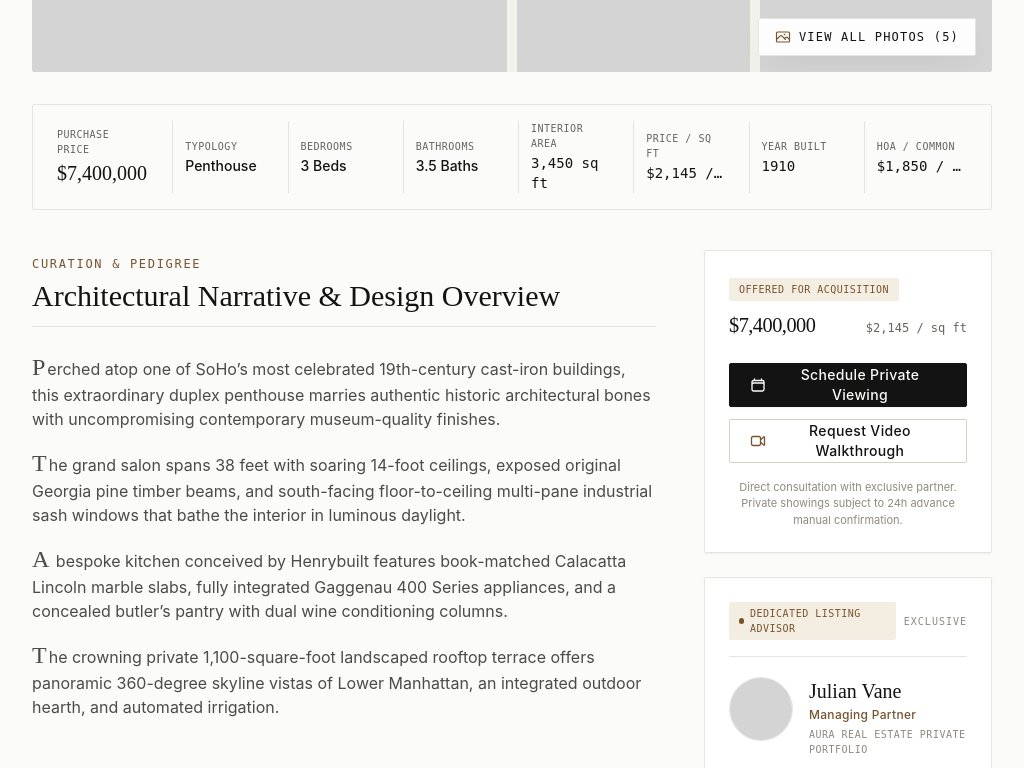
Test: Property Detail Page Integration Suite › opens viewing modal when Schedule Private Viewing button is clicked
The image size is (1024, 768).
(page scrolled)
Step 1. Click the button "Schedule Private Viewing" → (848,385), box [729,363,967,407]
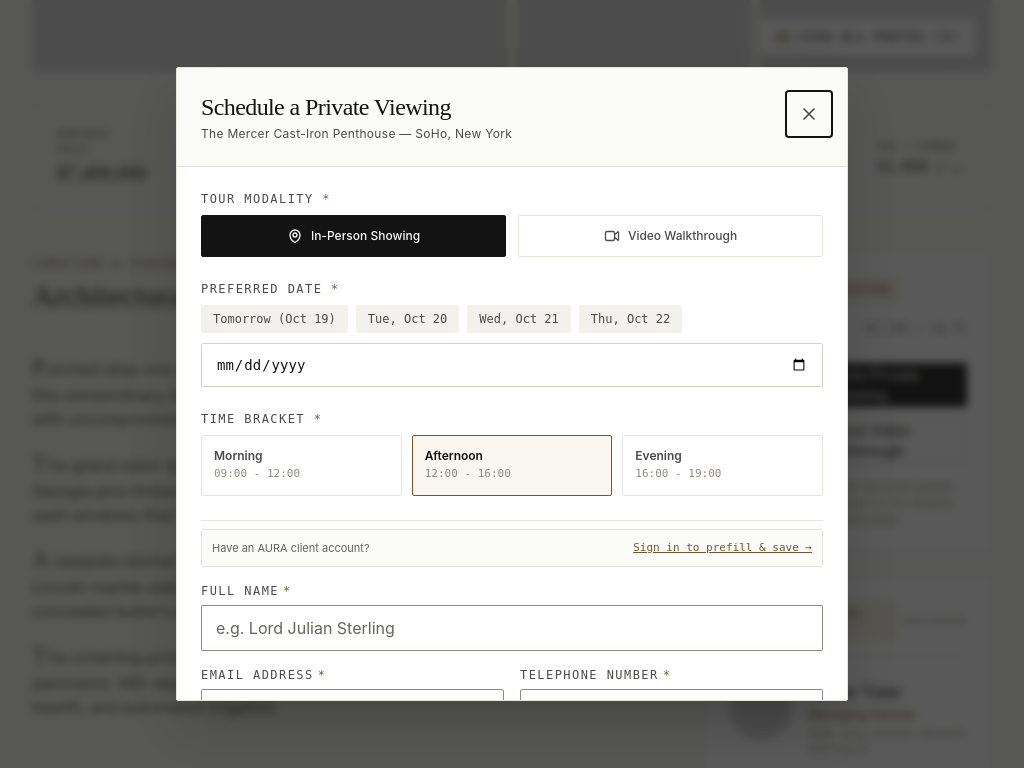
Expected: the dialog is shown, [176,67,848,701]
Expected: the heading "Schedule a Private Viewing" is shown, [201,94,451,120]
